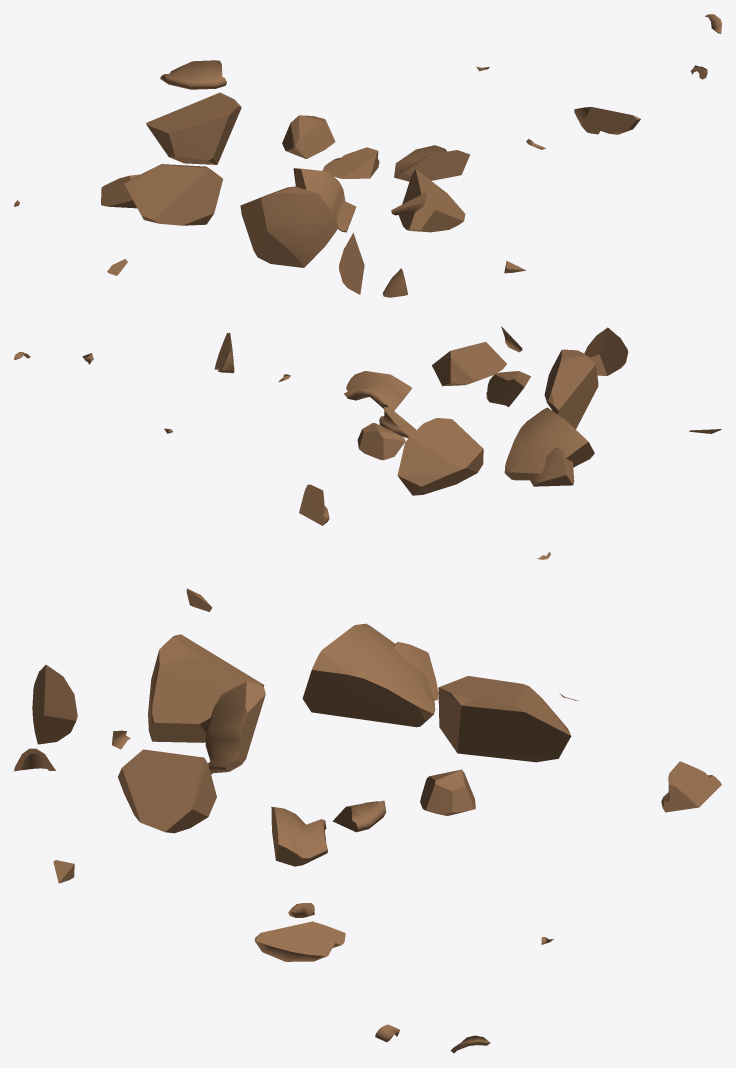
Rendered from Vase right fragments.fbx.
The picture shows the model from 3 angles, top to bottom: view 1: azimuth 30°, elevation 25°; view 2: azimuth 150°, elevation 25°; view 3: azimuth 270°, elevation 25°; orthographic projection. The views are drawn at different scales.
Parts seen in each view (by area): view 1: Vase right fragments; view 2: Vase right fragments; view 3: Vase right fragments.
Boxes of the visible parts, x1=… form: Vase right fragments: x1=14, y1=14, x2=721, y2=297; Vase right fragments: x1=14, y1=326, x2=721, y2=559; Vase right fragments: x1=14, y1=588, x2=721, y2=1053.
Size of the model in its own units: 147 by 19.72 by 98.17.
